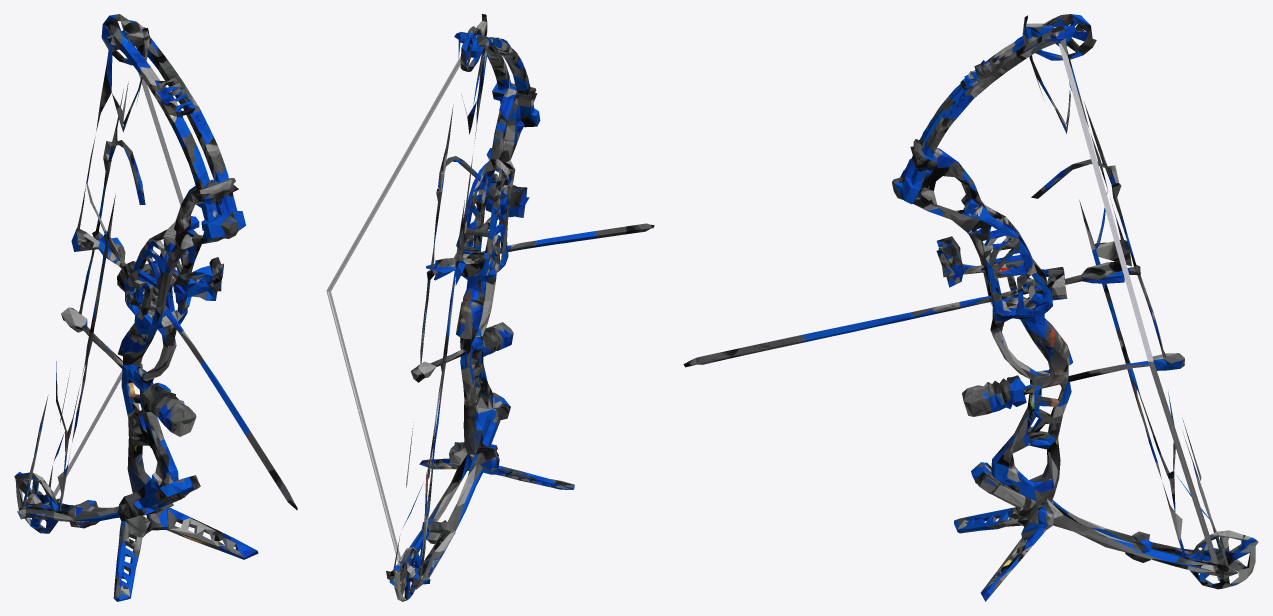
Rendered from compound_bow_pulling_2.obj.
3 renders of one model, left to right at view 1: azimuth 30°, elevation 25°; view 2: azimuth 150°, elevation 25°; view 3: azimuth 270°, elevation 25°, orthographic. The views are drawn at different scales.
Visible parts, largest first — view 1: compound_bow; view 2: compound_bow; view 3: compound_bow.
Part boxes in pixels (box(x1,y1,x2,y2)): compound_bow: box(14, 14, 297, 601); compound_bow: box(326, 14, 654, 601); compound_bow: box(683, 14, 1258, 601).
Bounding box in the file's own units: 0.3196 × 0.9784 × 0.8812.
